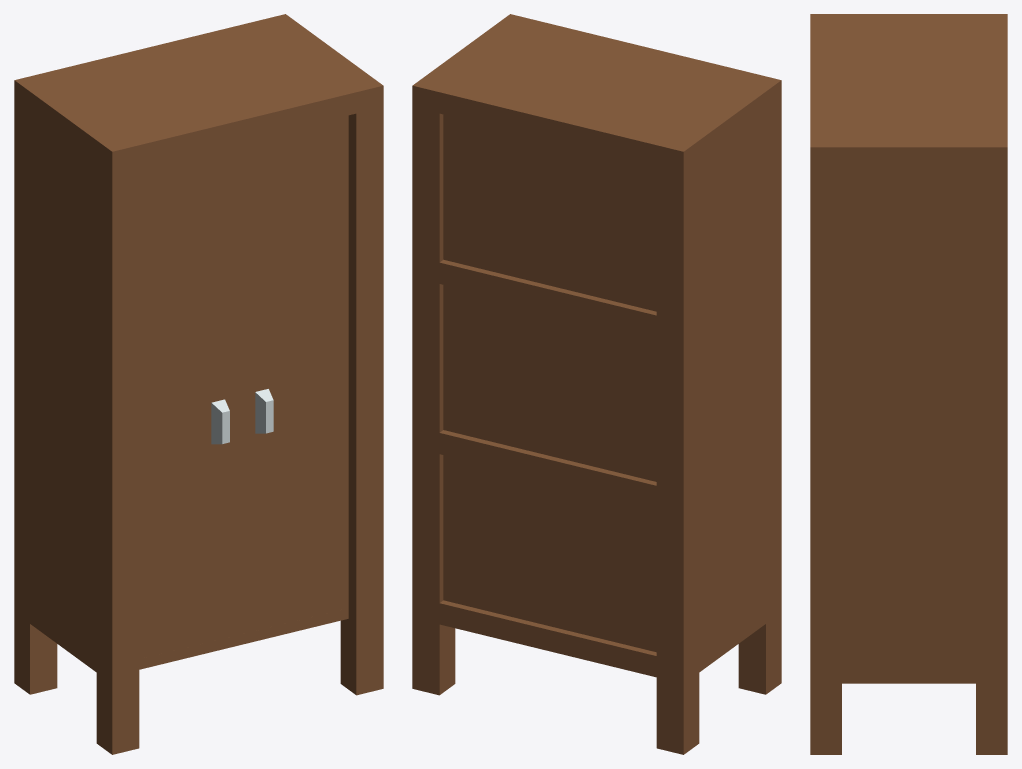
File: m_wardrobe.glb
3 renders of one model, left to right at view 1: azimuth 30°, elevation 25°; view 2: azimuth 150°, elevation 25°; view 3: azimuth 270°, elevation 25°, orthographic.
Visible parts, largest first — view 1: Mesh bookcaseClosedDoors, doorRight, doorLeft; view 2: Mesh bookcaseClosedDoors; view 3: Mesh bookcaseClosedDoors.
Part boxes in pixels (bbox=[...]): Mesh bookcaseClosedDoors: bbox=[14, 14, 383, 754]; doorRight: bbox=[240, 115, 348, 634]; doorLeft: bbox=[139, 142, 239, 658]; Mesh bookcaseClosedDoors: bbox=[412, 14, 781, 754]; Mesh bookcaseClosedDoors: bbox=[810, 14, 1007, 754].
Size of the model in its own units: 0.9413 by 2 by 0.5882.
